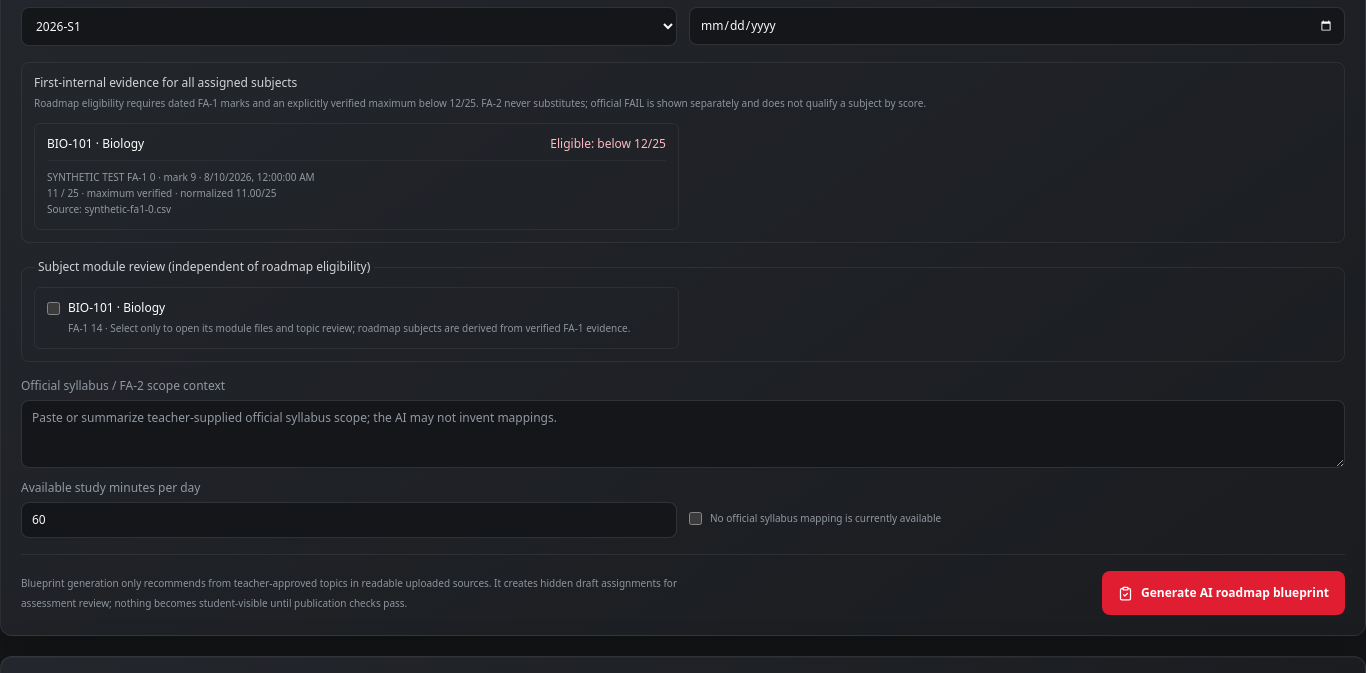
Test: teacher recovery roadmap builder page › loads authoritative FA-1 evidence and requests an all-subject blueprint without a subject list
(page scrolled)
Click the checkbox labelled "BIO-101 · Biology".
click(54, 308)  # box [47,302,60,315]
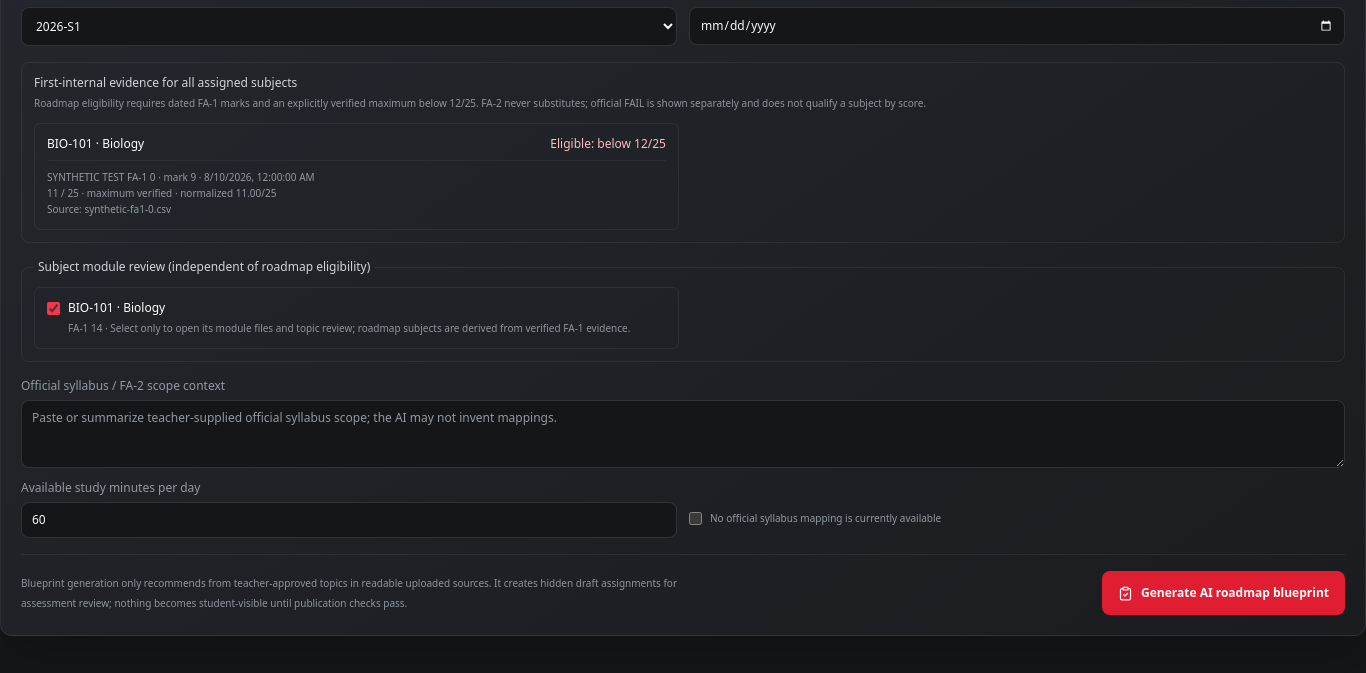
Type "2026-11-10" into the date field labelled "Official FA-2 exam date".
click(1017, 26); type("2026-11-10")  # box [689,7,1345,45]
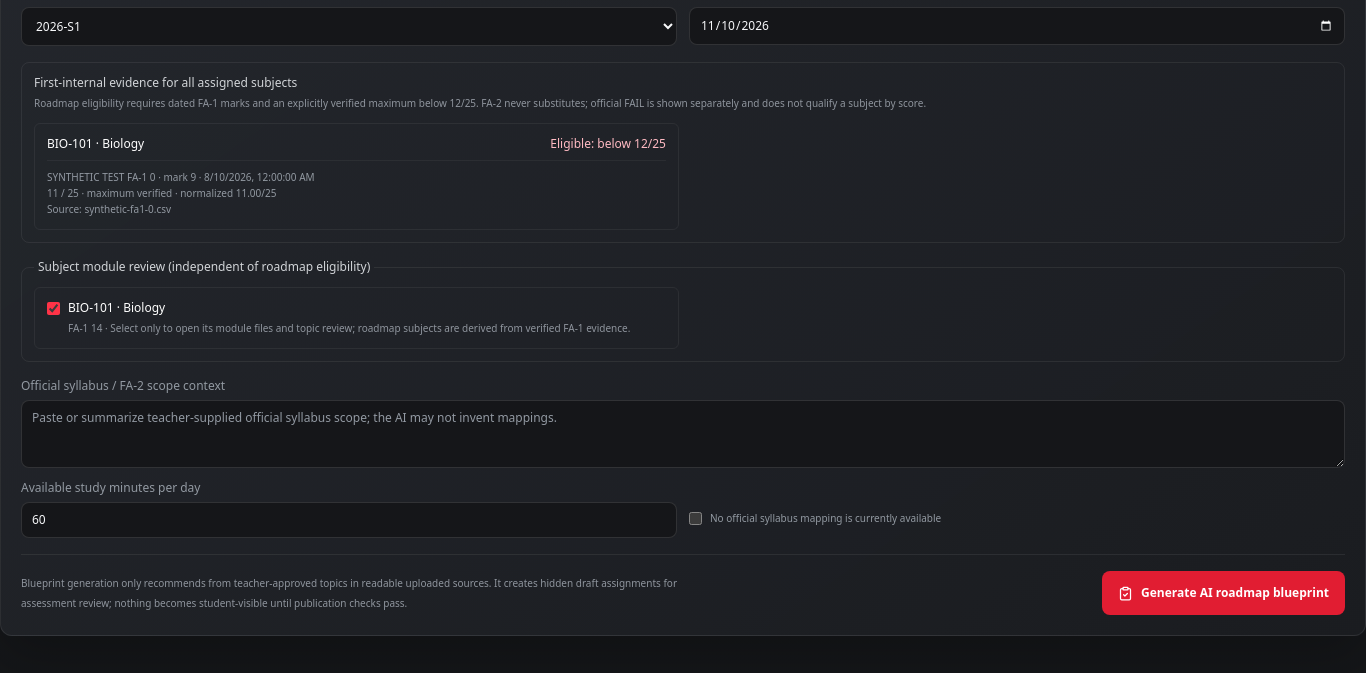
Click the checkbox labelled "No official syllabus mapping is currently available".
click(696, 518)  # box [689,512,702,525]
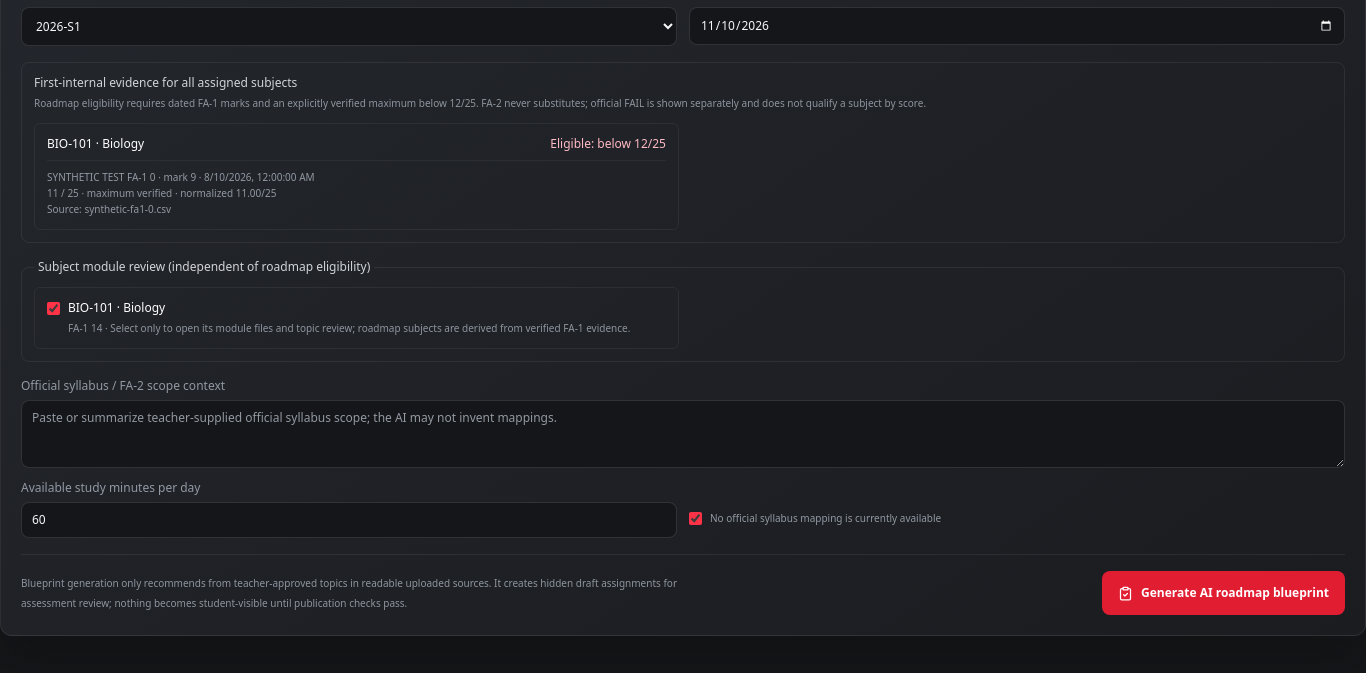
Click the button "Generate AI roadmap blueprint".
click(1224, 593)  # box [1102,571,1345,615]
(page scrolled)
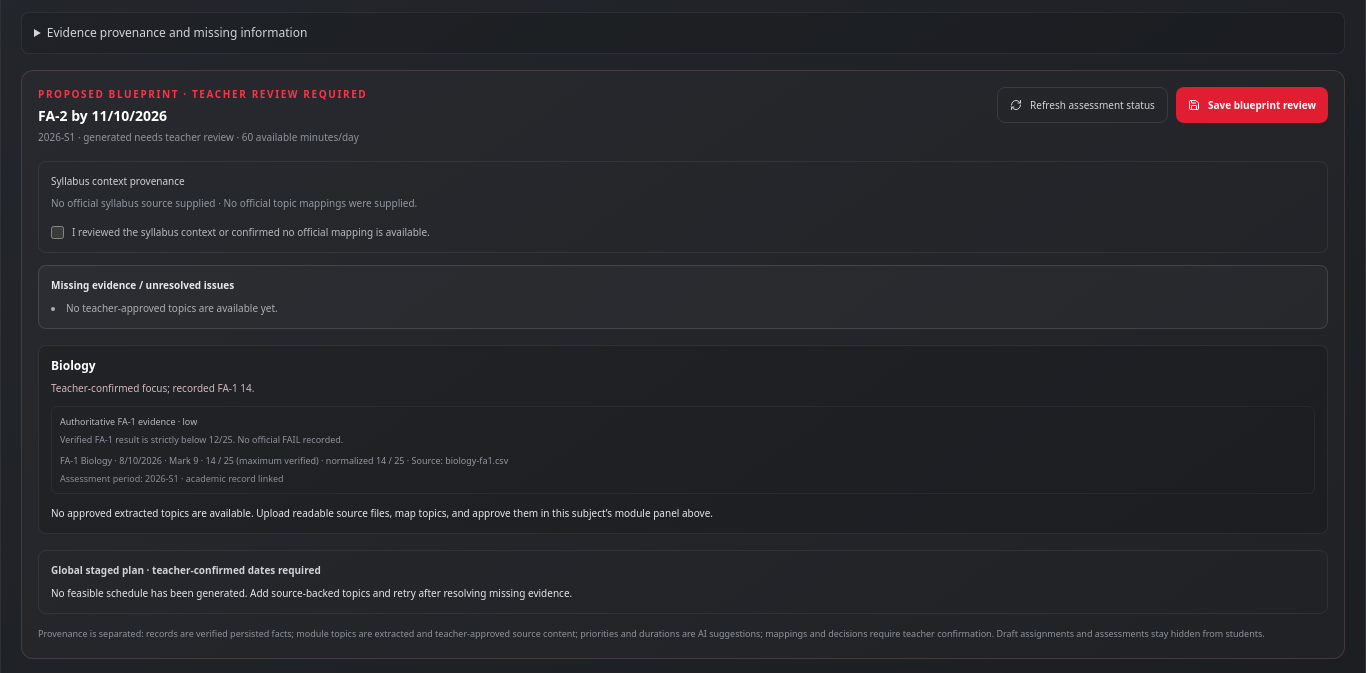
expect the text "Proposed blueprint · teacher review required" is shown: met, box [38,87,367,102]
expect the list item "Mark 9" is shown: met, box [60,454,508,467]
expect the list item "biology-fa1.csv" is shown: met, box [404,454,508,467]
